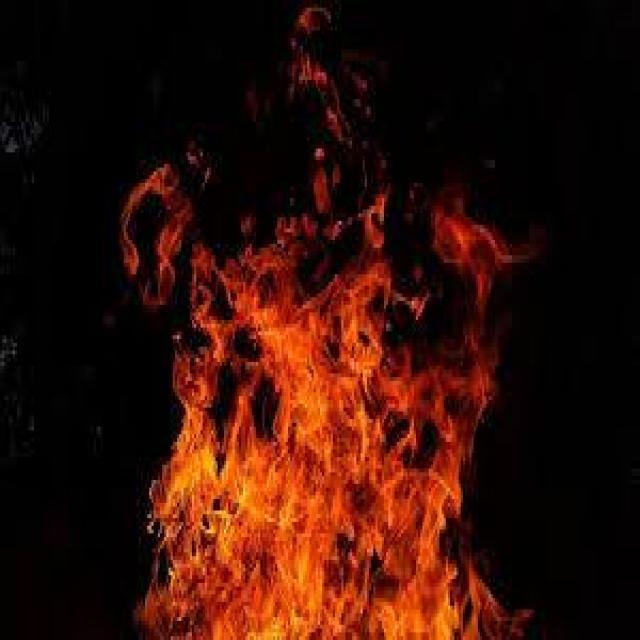fire: (128, 50, 556, 640)
